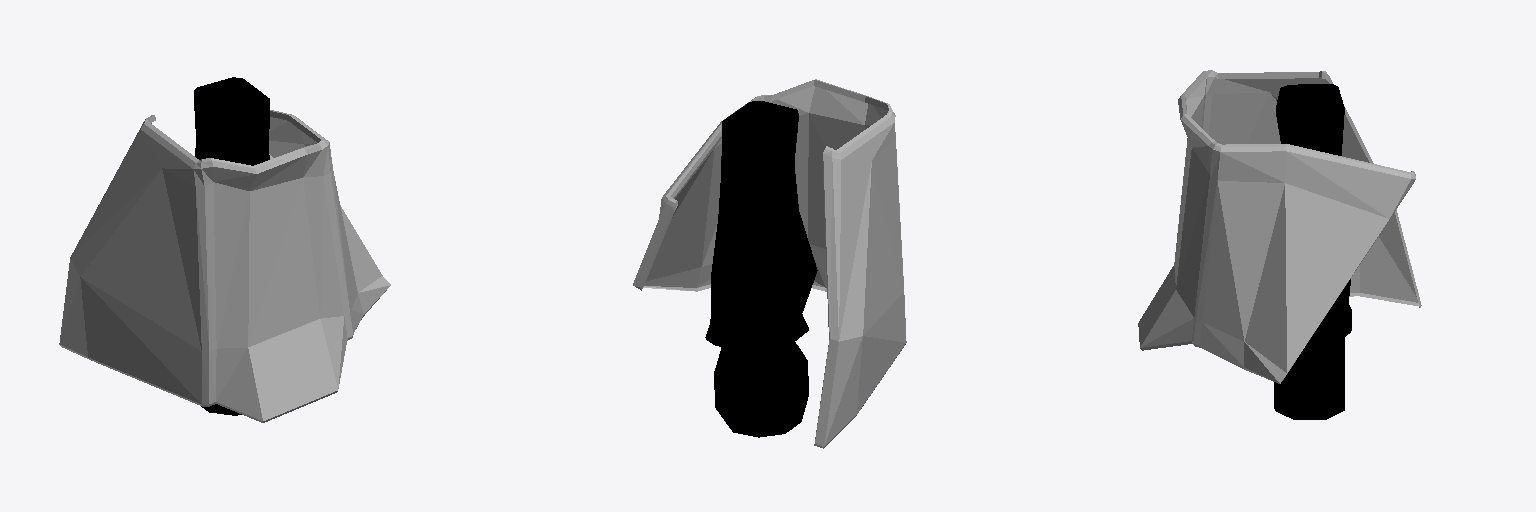
Rendered from Collar_Left.obj.
3 renders of one model, left to right at view 1: azimuth 30°, elevation 25°; view 2: azimuth 150°, elevation 25°; view 3: azimuth 270°, elevation 25°, orthographic.
Parts seen in each view (by area): view 1: collar_left, collarbone_left; view 2: collar_left, collarbone_left; view 3: collar_left, collarbone_left.
Part boxes in pixels (x1,y1,x2,y2): collar_left: (59, 110, 390, 422); collarbone_left: (194, 77, 269, 415); collar_left: (633, 79, 906, 448); collarbone_left: (705, 101, 817, 437); collar_left: (1138, 70, 1421, 383); collarbone_left: (1274, 84, 1351, 419).
Size of the model in its own units: 0.9124 by 0.9961 by 0.8272.